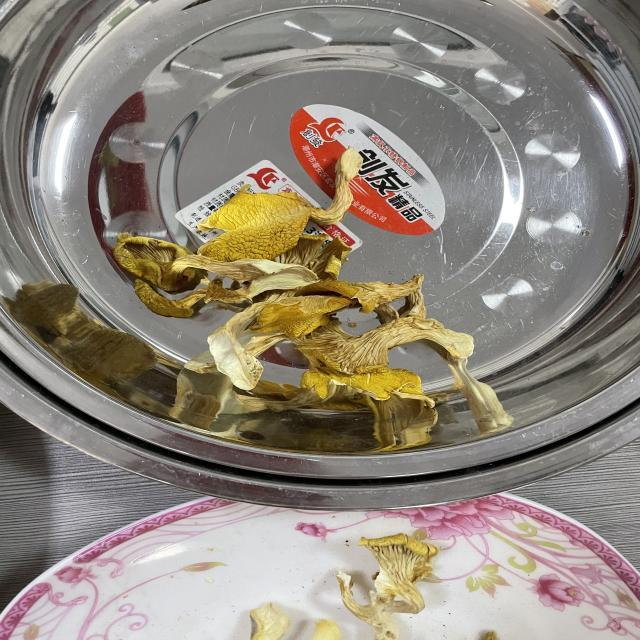Pleurotus citrinopileatus: (199, 97, 603, 395)
